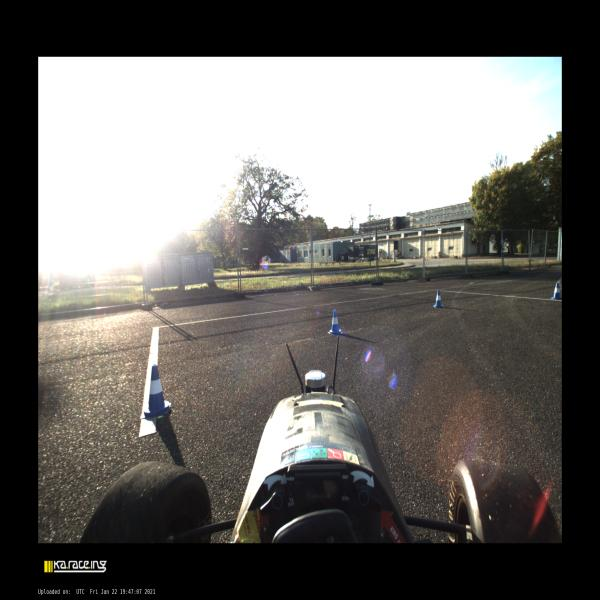blue_cone: (140, 365, 172, 418), (328, 310, 343, 335), (433, 290, 444, 308), (551, 284, 562, 300)
